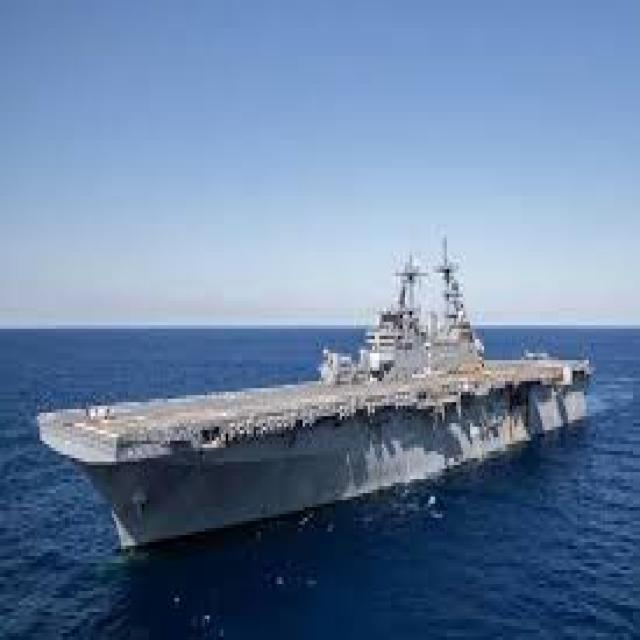navalvessels: (37, 165, 591, 579)
